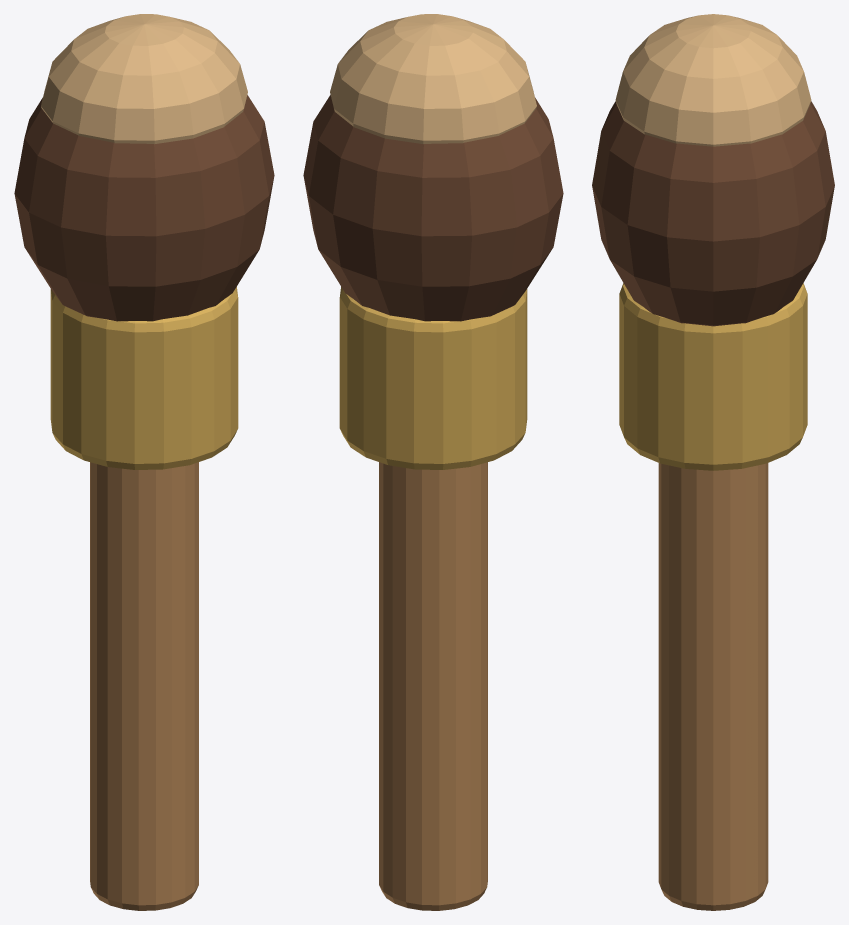
The model's file is P088_powder_brush.glb.
3 views of the same model, side by side, from view 1: azimuth 30°, elevation 25°; view 2: azimuth 150°, elevation 25°; view 3: azimuth 270°, elevation 25° (orthographic).
Visible parts, largest first — view 1: P088_handle_001, P088_brush_003, P088_ferrule_002, P088_tip_004; view 2: P088_handle_001, P088_brush_003, P088_ferrule_002, P088_tip_004; view 3: P088_handle_001, P088_brush_003, P088_ferrule_002, P088_tip_004.
Boxes of the visible parts, left/top/right/bottom form: P088_handle_001: left=90, top=462, right=198, bottom=910; P088_brush_003: left=14, top=95, right=274, bottom=321; P088_ferrule_002: left=50, top=286, right=238, bottom=469; P088_tip_004: left=41, top=14, right=247, bottom=144; P088_handle_001: left=379, top=462, right=487, bottom=910; P088_brush_003: left=303, top=95, right=563, bottom=321; P088_ferrule_002: left=339, top=286, right=527, bottom=469; P088_tip_004: left=330, top=14, right=536, bottom=144; P088_handle_001: left=658, top=463, right=768, bottom=910; P088_brush_003: left=592, top=101, right=834, bottom=326; P088_ferrule_002: left=619, top=283, right=807, bottom=470; P088_tip_004: left=615, top=14, right=811, bottom=146.
Size of the model in its own units: 0.068 by 0.244 by 0.062.
